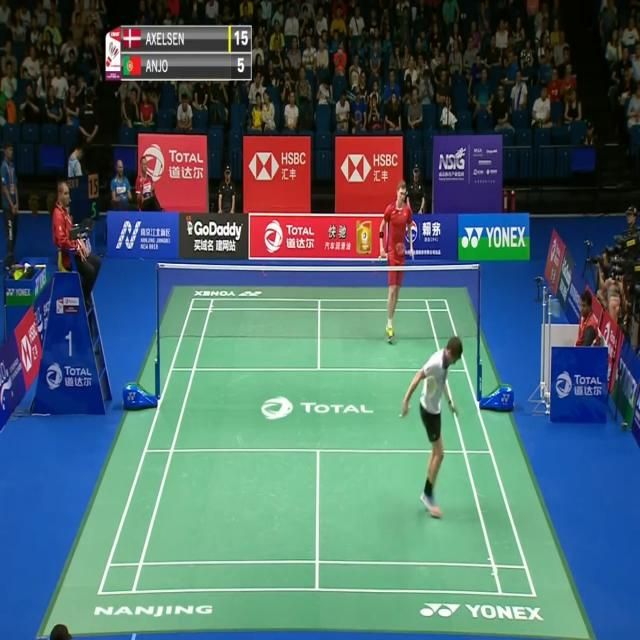Player1: (398, 332, 468, 524)
Player2: (378, 175, 415, 346)
